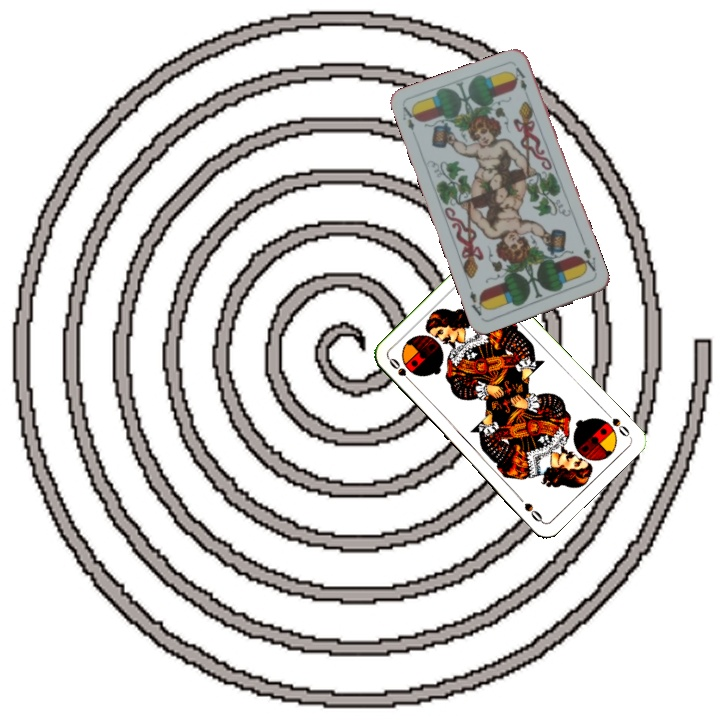EA: (577, 242, 600, 277), (398, 102, 420, 133)
SO: (601, 407, 633, 440), (385, 354, 416, 387)
